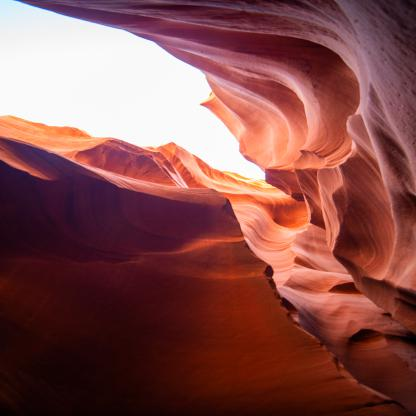Sedimentary_Sandstone: (0, 132, 269, 416), (242, 2, 414, 415)
